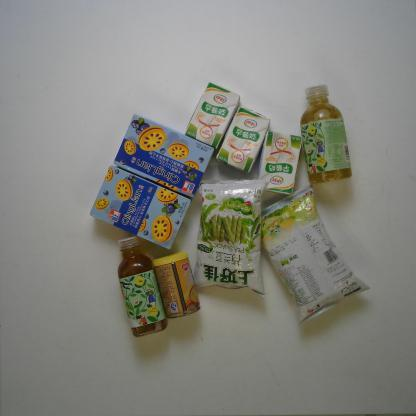Canned Food: (152, 250, 202, 320)
Dessert: (89, 164, 192, 251), (113, 112, 215, 199)
Drink: (299, 83, 353, 186), (116, 235, 168, 338)
Milk: (183, 81, 242, 152), (214, 105, 272, 175), (257, 128, 304, 196)
Puffed Food: (258, 181, 373, 328), (191, 178, 273, 301)
